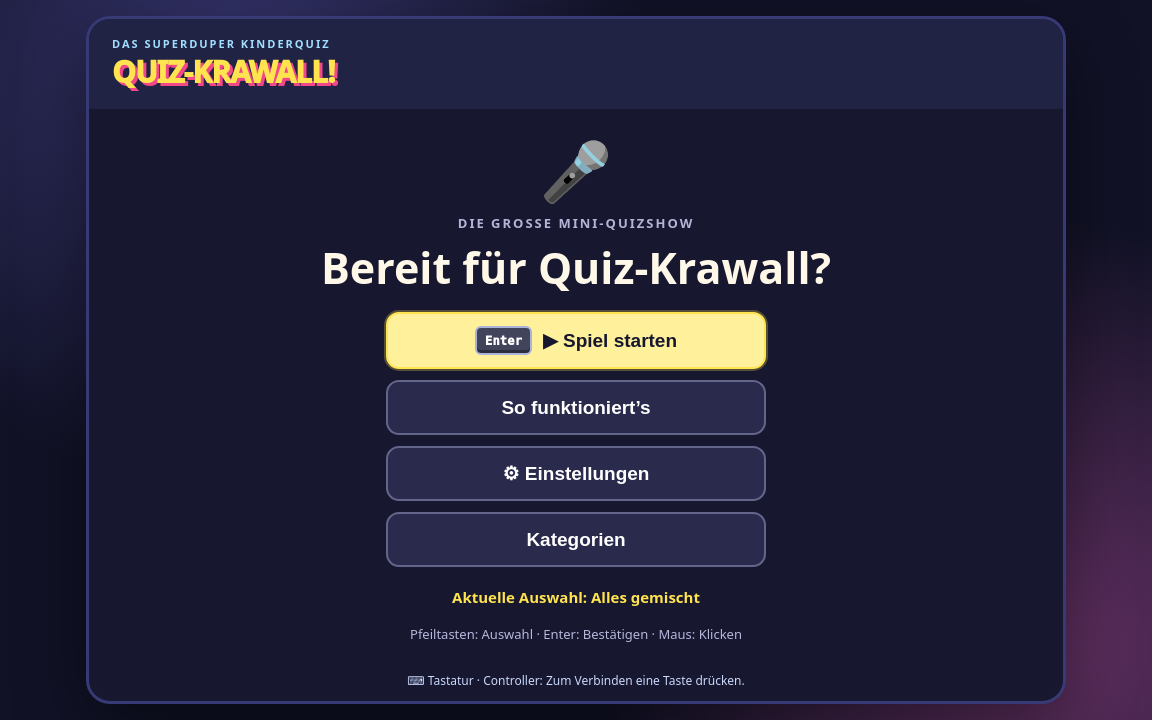
quiz app interaction › runs question, repeat, feedback and next-question flow
Click the button "Enter ▶ Spiel starten": (576, 341) [386, 312, 766, 369]
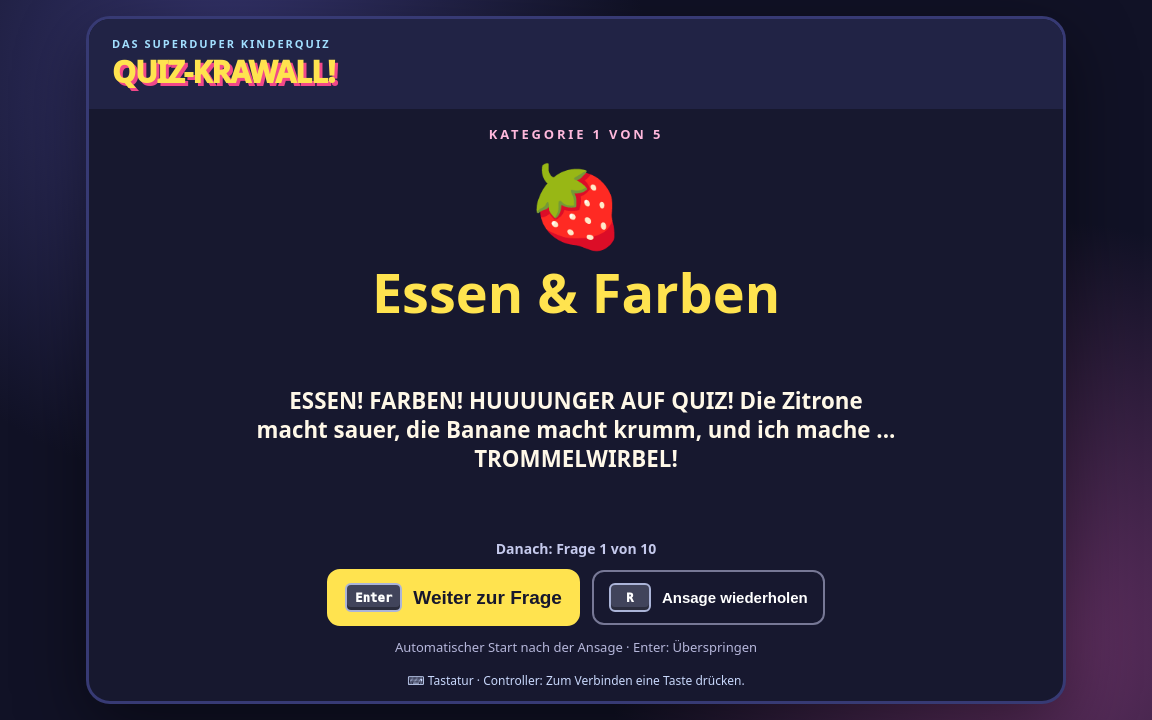
Click the button "Enter Weiter zur Frage": (454, 598) [327, 570, 580, 626]
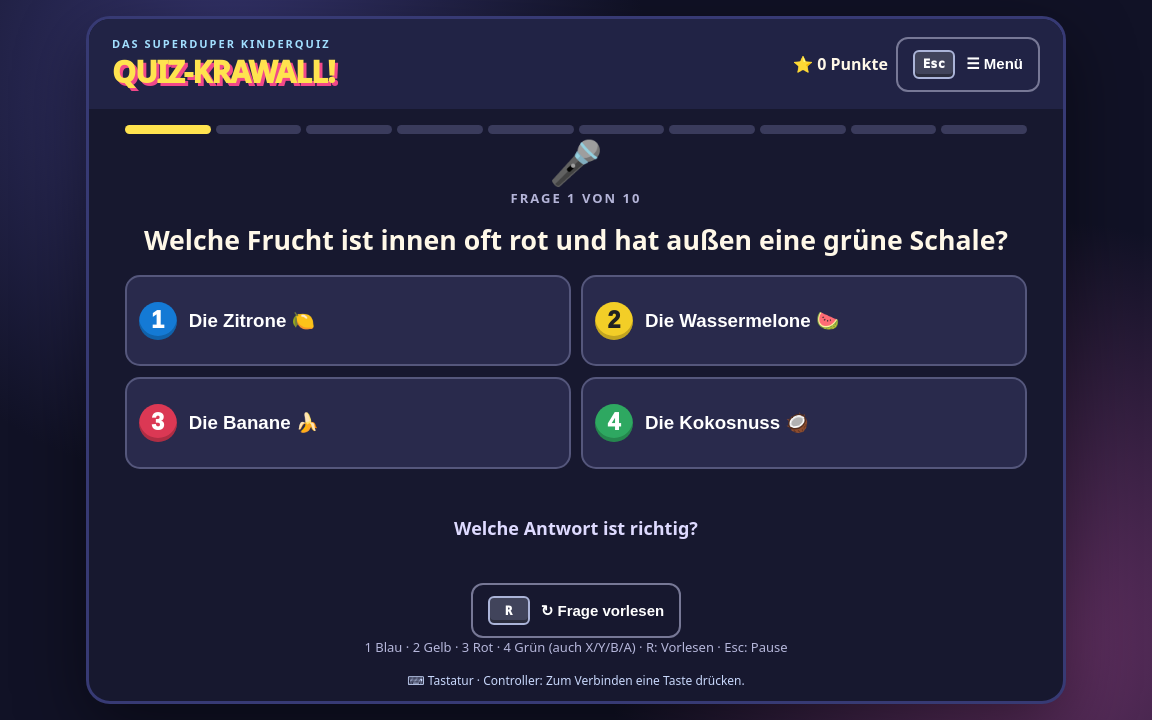
Press r
Click the button "1 Die Zitrone 🍋": (158, 321) [125, 275, 571, 366]
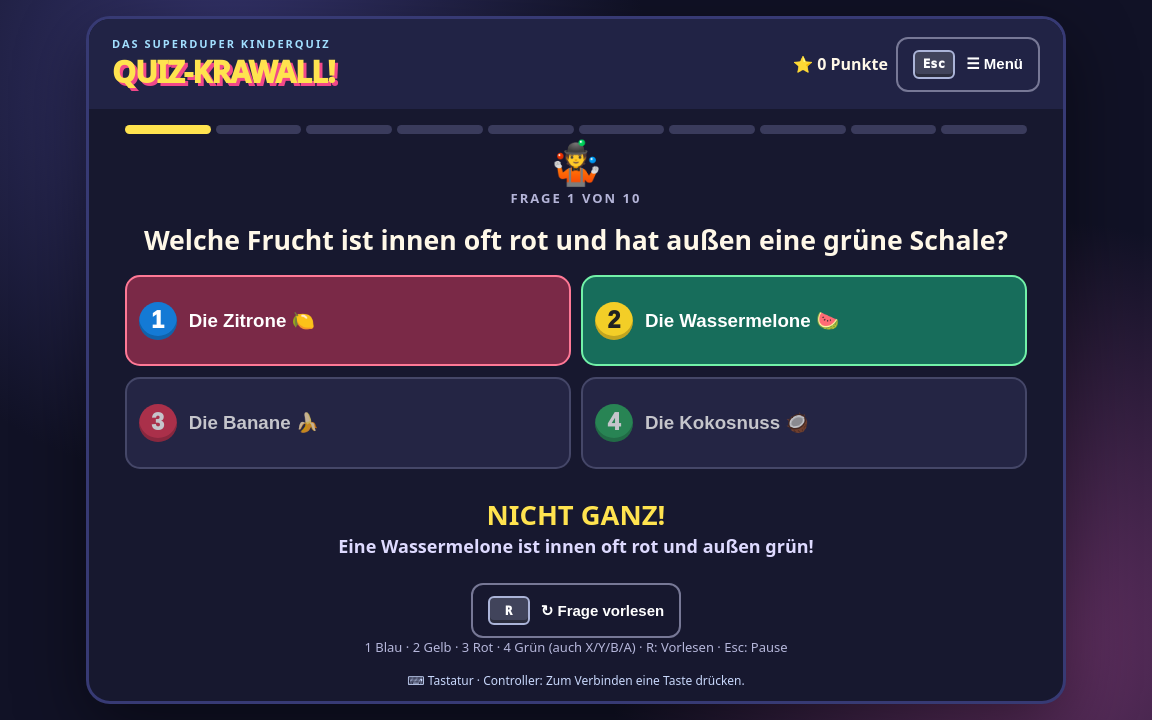
Check: the text "NICHT GANZ!" is shown, box [487, 500, 665, 530]
Press Enter
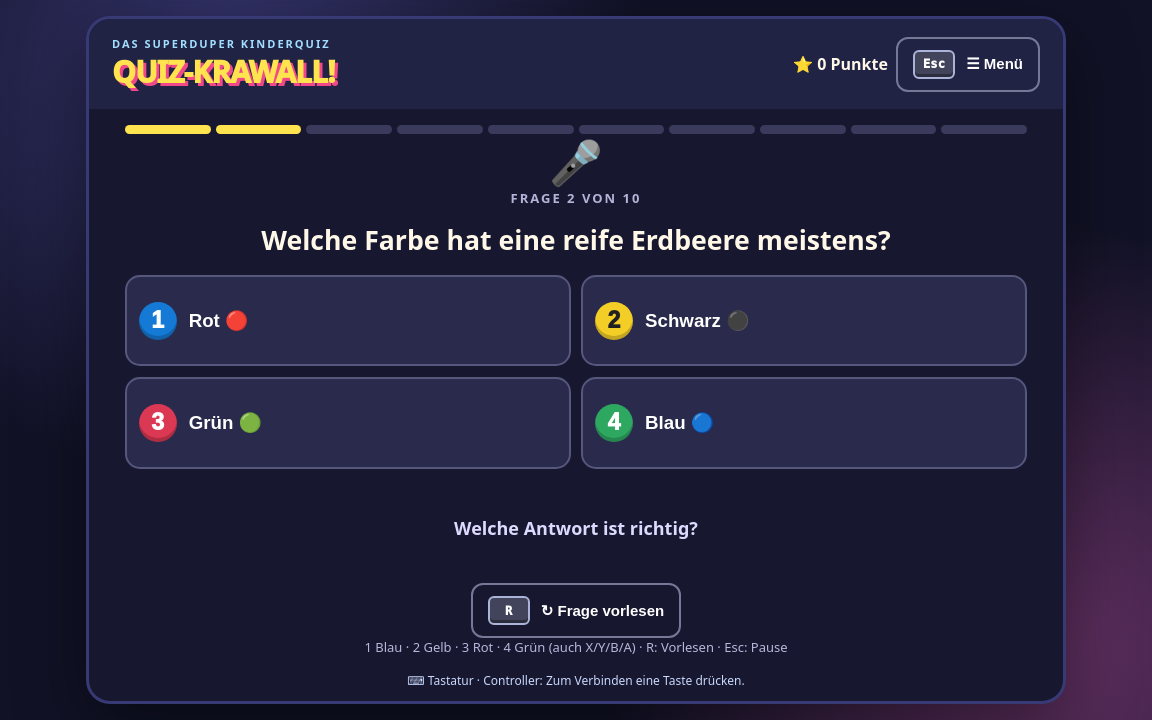
Check: the text "Frage 2 von 10" is shown, box [511, 190, 641, 208]
